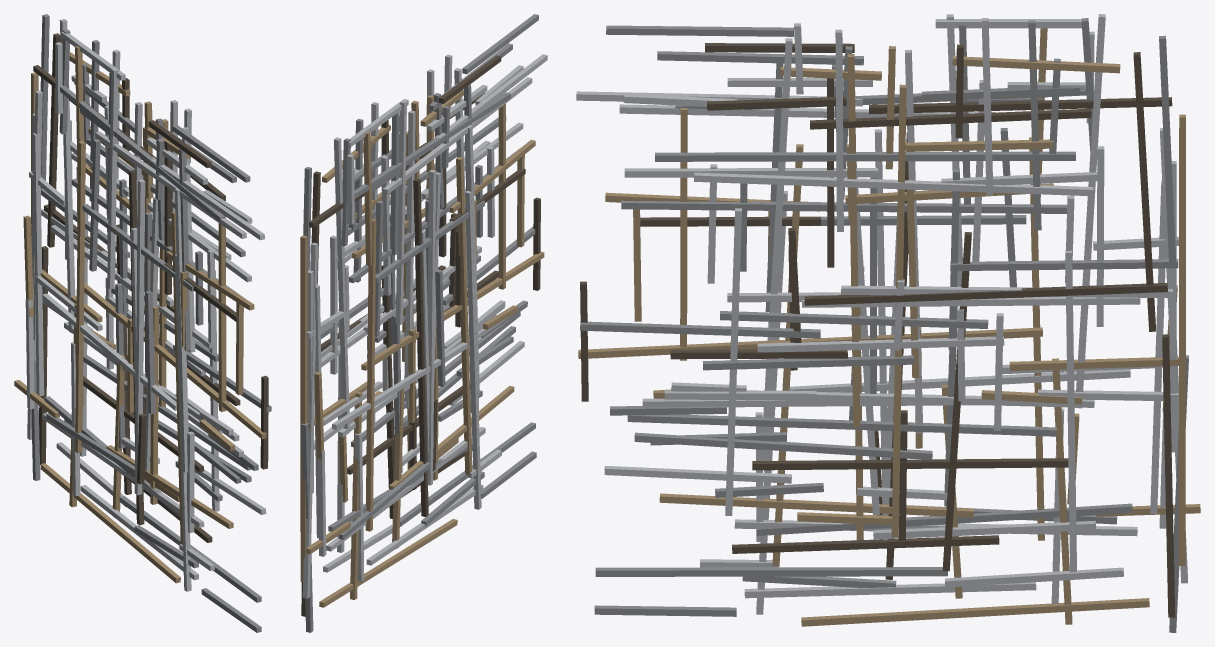
Rendered from _t_art.glb.
3 renders of one model, left to right at view 1: azimuth 30°, elevation 25°; view 2: azimuth 150°, elevation 25°; view 3: azimuth 270°, elevation 25°, orthographic. The views are drawn at different scales.
Parts seen in each view (by area): view 1: root; view 2: root; view 3: root.
Part boxes in pixels (left/top/right/bottom): root: left=14, top=14, right=271, bottom=632; root: left=300, top=14, right=547, bottom=632; root: left=576, top=14, right=1200, bottom=632.
Size of the model in its own units: 0.0437 by 0.8907 by 0.8174.
